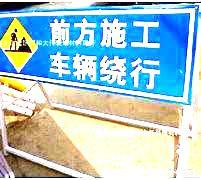sign: (1, 12, 191, 100)
